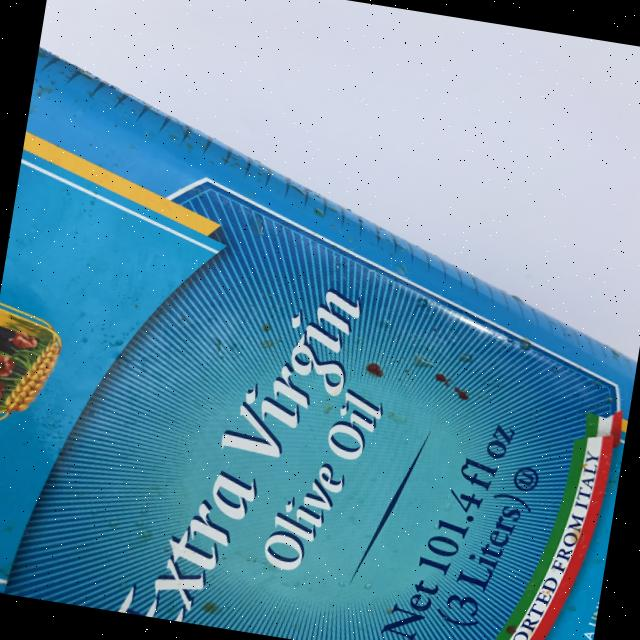metal: (0, 47, 640, 640)
